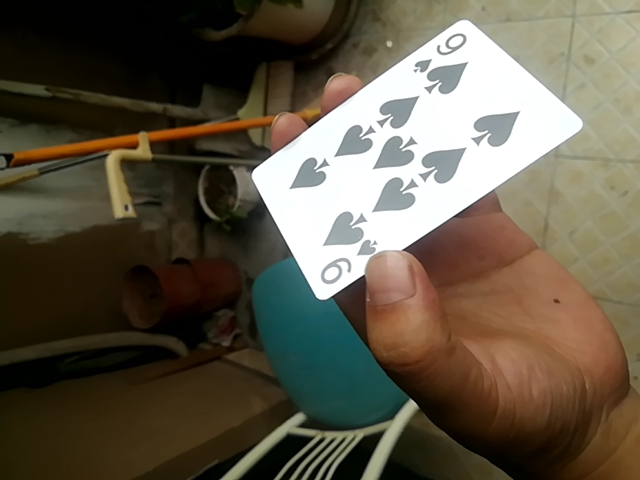ht 9: (234, 16, 586, 310)
